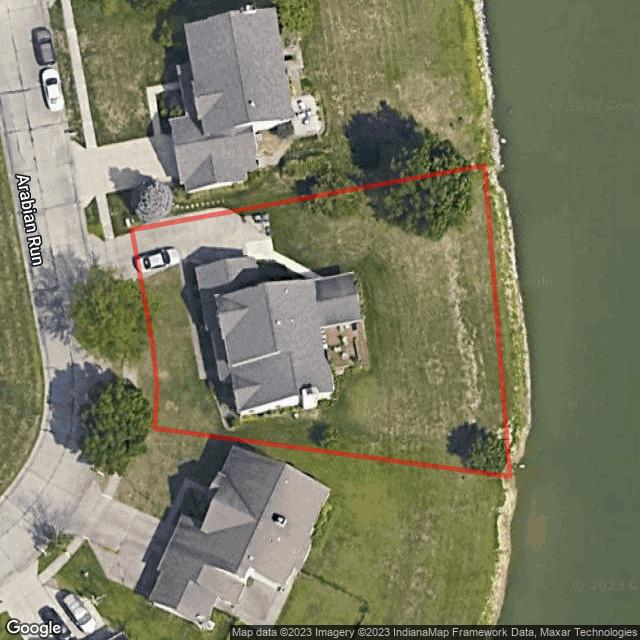Driveway: (135, 213, 322, 382)
Extra Driveway: (87, 232, 138, 295)
Extra Lawn: (123, 279, 154, 431), (100, 283, 124, 425)
Extra Sidewalk: (113, 281, 138, 428)
House: (195, 258, 366, 431)
